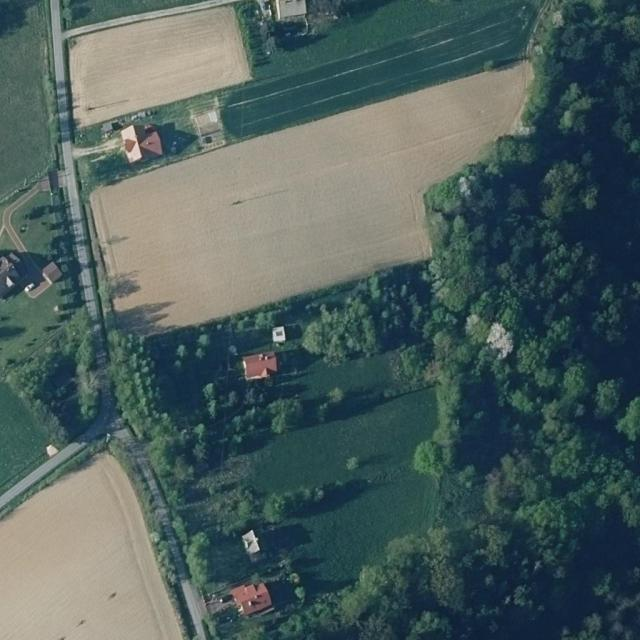agricultural_land: (79, 58, 574, 346), (214, 0, 544, 144), (54, 0, 253, 128), (244, 0, 518, 89), (0, 283, 73, 374), (1, 382, 47, 484), (62, 0, 205, 29), (12, 200, 60, 257)
building: (187, 97, 231, 152), (229, 575, 276, 621), (121, 120, 165, 164), (241, 351, 278, 381), (275, 0, 306, 21), (240, 528, 263, 556), (272, 326, 285, 342)
greenland: (85, 266, 313, 499), (171, 388, 450, 535), (274, 462, 459, 603), (0, 307, 144, 450), (290, 263, 441, 371), (273, 334, 441, 431), (200, 290, 330, 364), (169, 492, 255, 596), (258, 476, 355, 526), (264, 525, 312, 611), (200, 481, 265, 541)
metalled_road: (111, 423, 222, 640), (42, 0, 101, 322), (85, 320, 129, 442)
